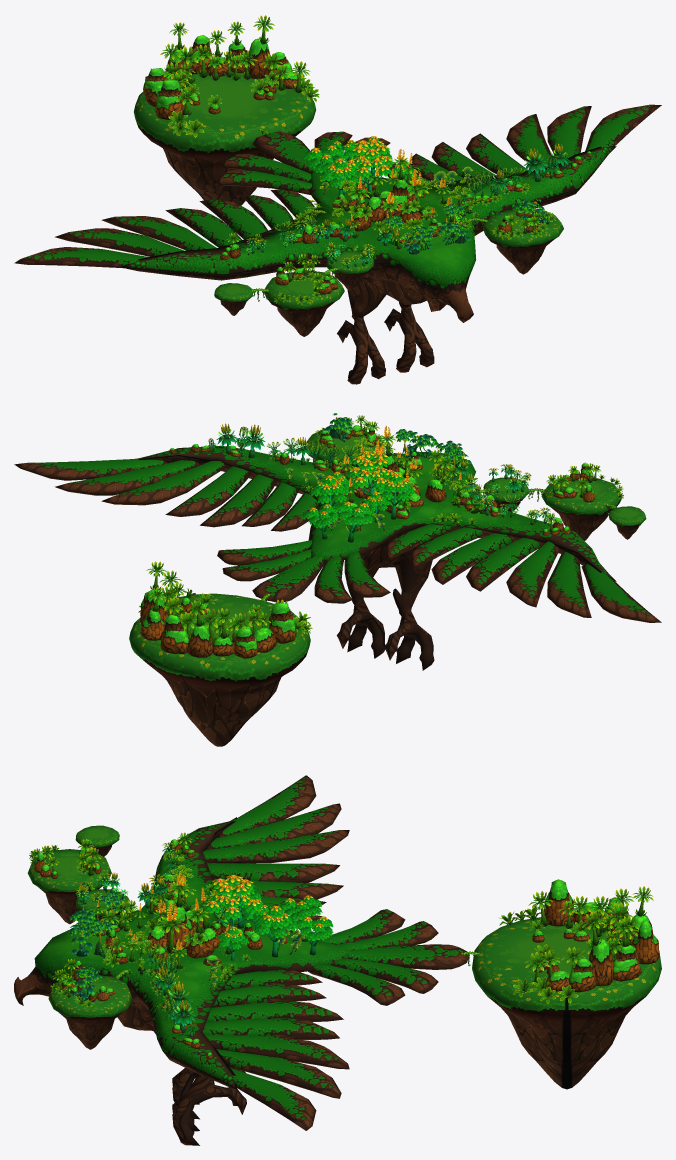
File: SKY-Forest_Sample.FBX
3 views of the same model, one above another, from view 1: azimuth 30°, elevation 25°; view 2: azimuth 150°, elevation 25°; view 3: azimuth 270°, elevation 25° (orthographic). The views are drawn at different scales.
Visible parts, largest first — view 1: Green_Bird, Green_Island003, Blue_Rock_062, Green_Rock_042, Green_Island001, Green_Rock_003; view 2: Green_Bird, Green_Island003, Blue_Rock_062, Green_Rock_042, Green_Island001, Green_Rock_003; view 3: Green_Bird, Green_Island003, Blue_Rock_062, Green_Rock_042, Green_Island001, Green_Rock_003.
Part boxes in pixels (x1=…): Green_Bird: x1=14, y1=15, x2=661, y2=384; Green_Island003: x1=134, y1=72, x2=315, y2=205; Blue_Rock_062: x1=143, y1=35, x2=300, y2=119; Green_Rock_042: x1=220, y1=151, x2=592, y2=259; Green_Island001: x1=326, y1=250, x2=374, y2=290; Green_Rock_003: x1=275, y1=267, x2=337, y2=294; Green_Bird: x1=14, y1=413, x2=661, y2=670; Green_Island003: x1=129, y1=593, x2=310, y2=746; Blue_Rock_062: x1=140, y1=589, x2=296, y2=658; Green_Rock_042: x1=169, y1=444, x2=570, y2=535; Green_Island001: x1=483, y1=477, x2=529, y2=512; Green_Rock_003: x1=553, y1=462, x2=594, y2=502; Green_Bird: x1=14, y1=775, x2=653, y2=1145; Green_Island003: x1=472, y1=917, x2=661, y2=1089; Blue_Rock_062: x1=532, y1=879, x2=659, y2=992; Green_Rock_042: x1=96, y1=839, x2=287, y2=1059; Green_Island001: x1=76, y1=889, x2=129, y2=918; Green_Rock_003: x1=34, y1=839, x2=101, y2=878.
Size of the model in its own units: 17238 by 5768 by 13257.
